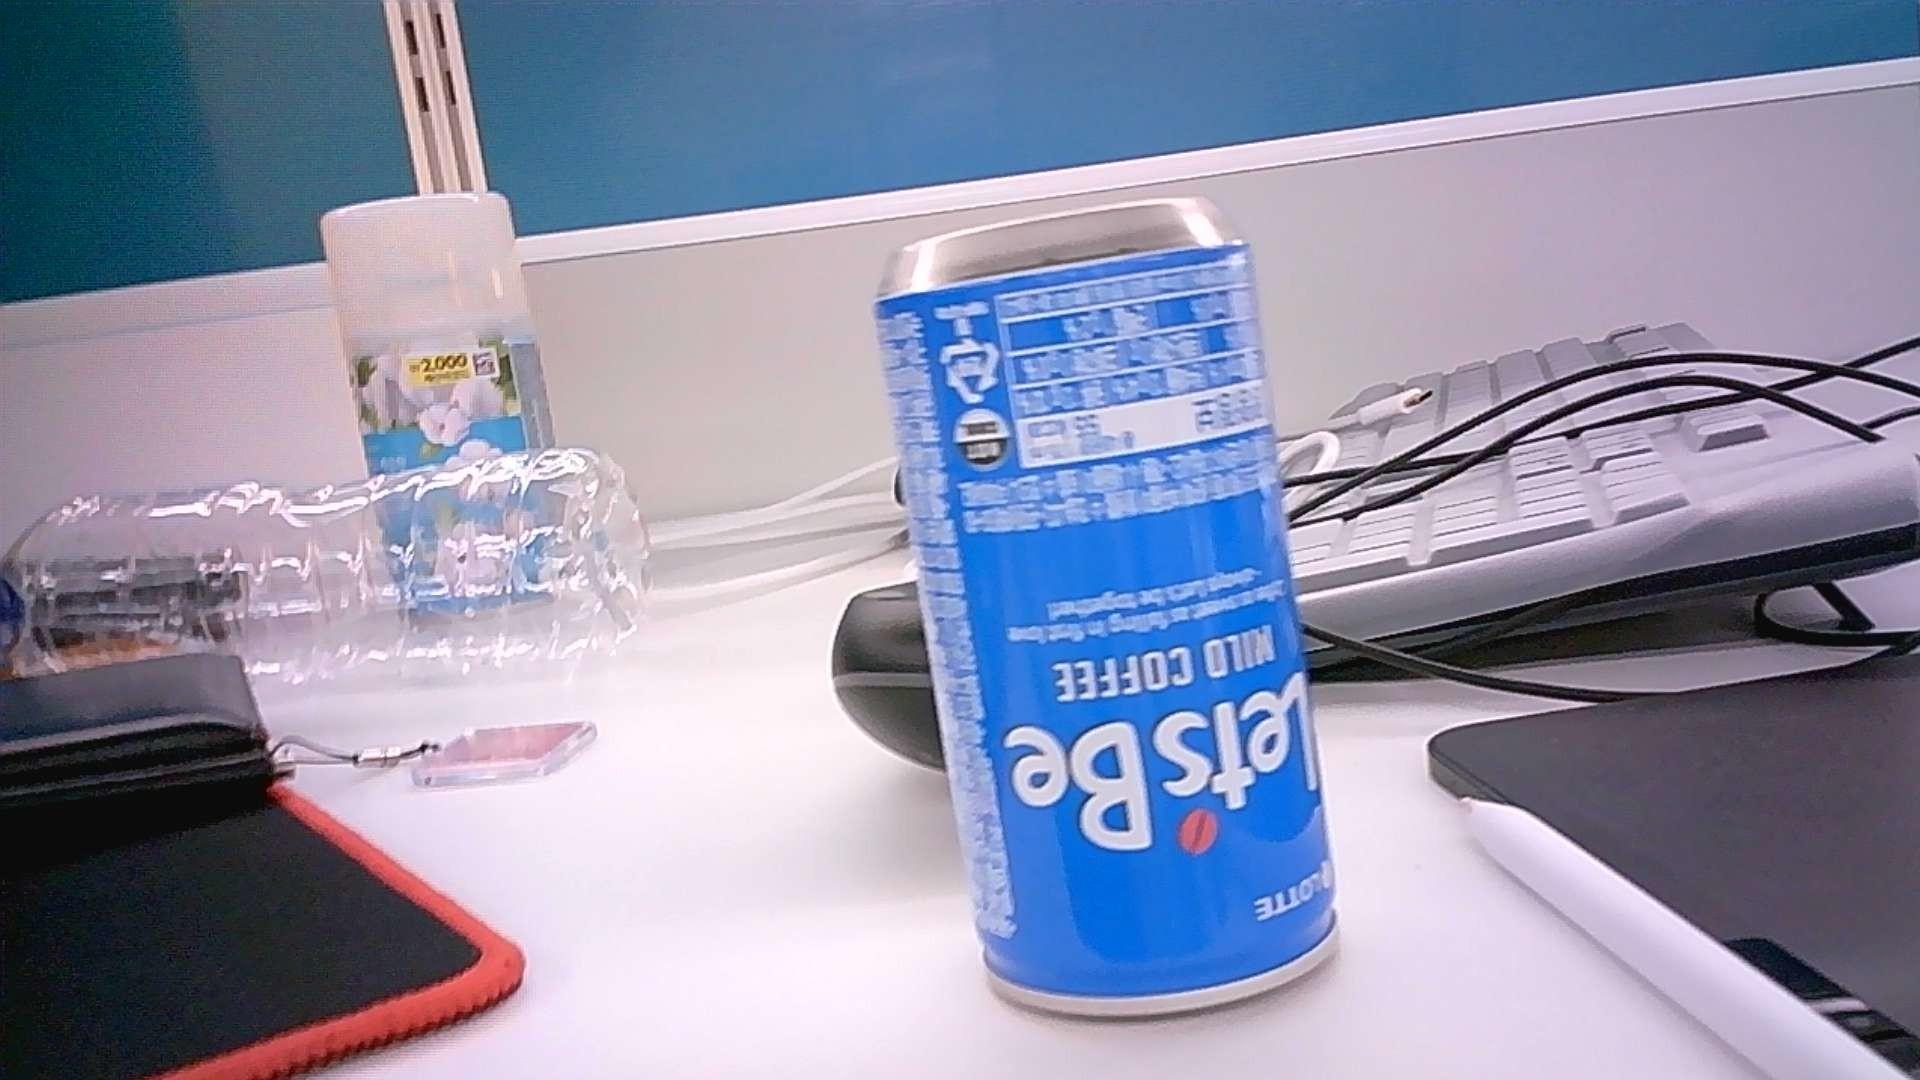letsbe: (874, 195, 1340, 1019)
